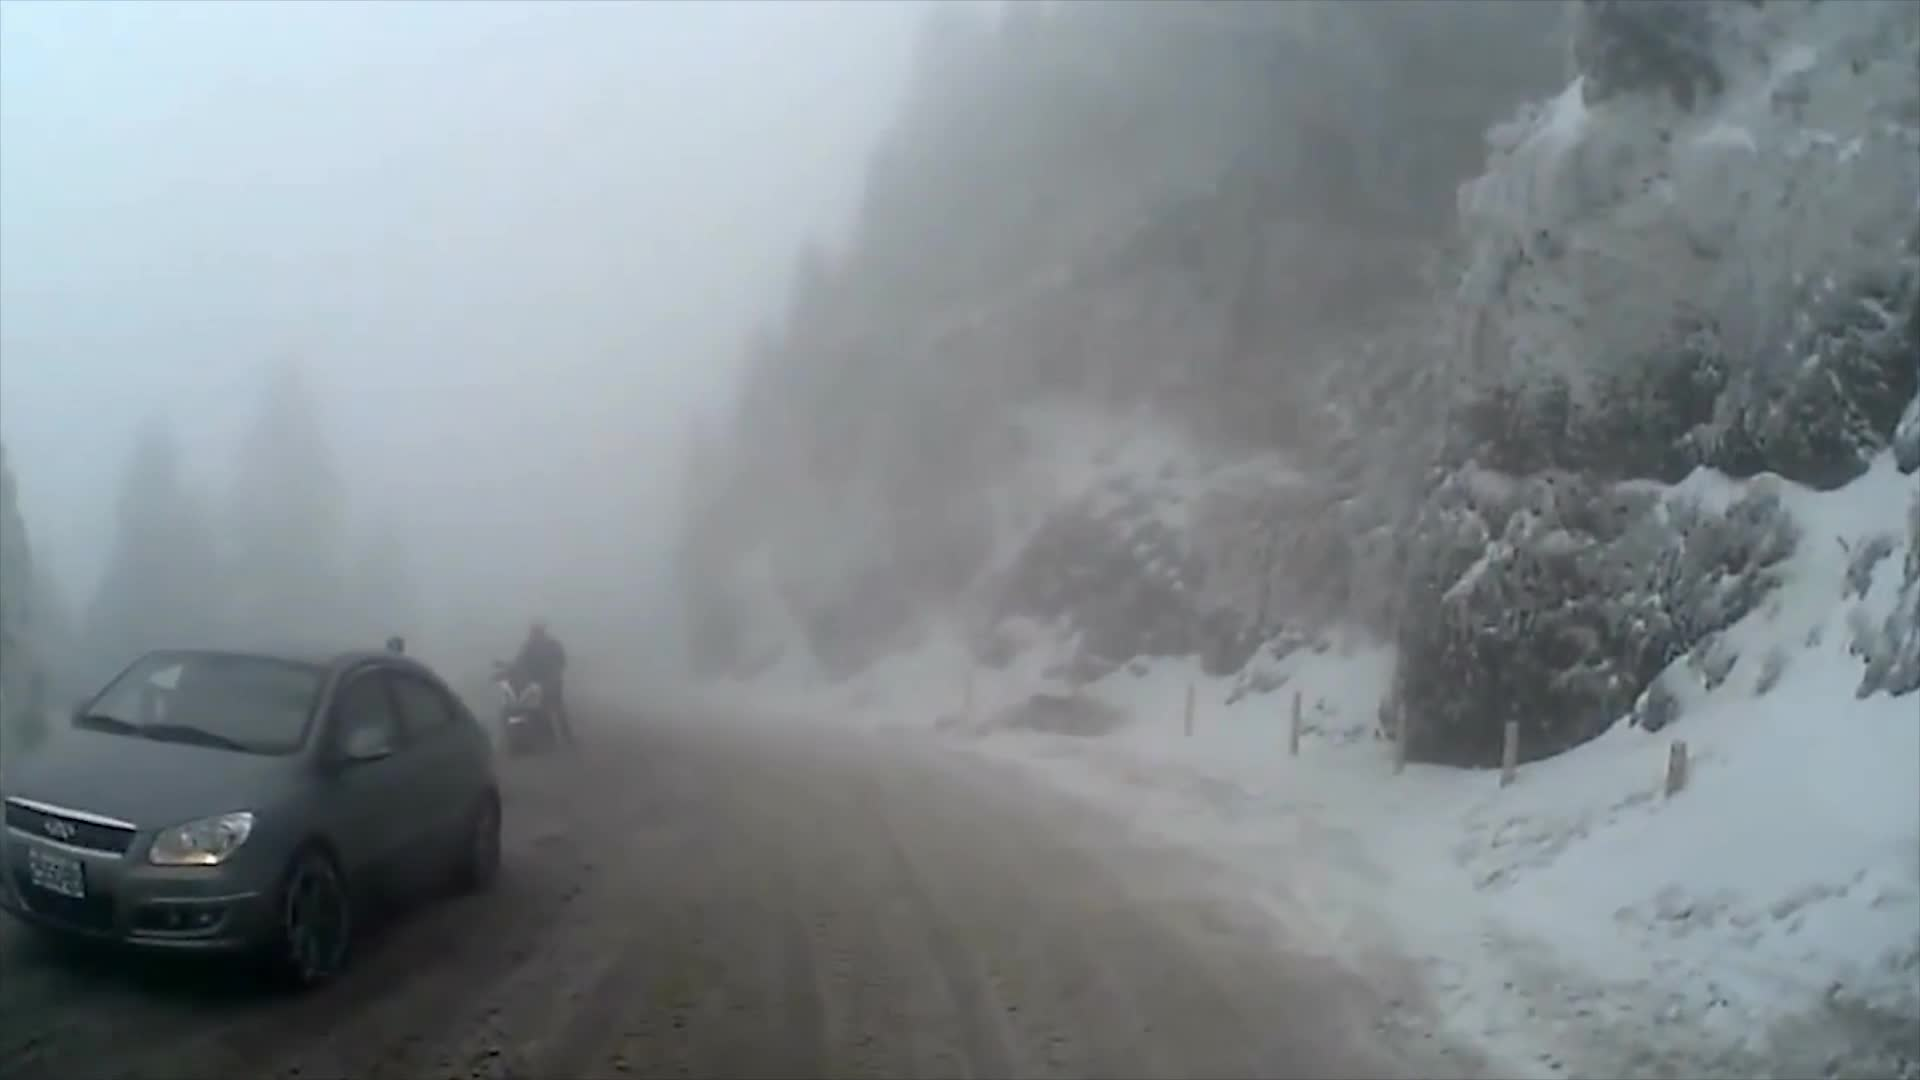pedestrian: (507, 615, 578, 741)
vehicle: (0, 641, 506, 1011)
